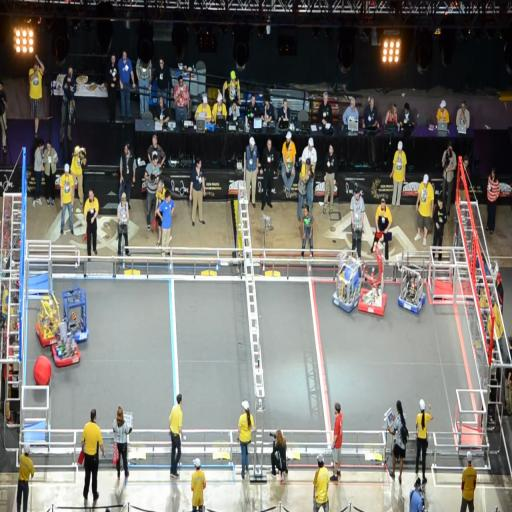robot: (358, 241, 388, 317), (331, 250, 362, 316), (35, 288, 63, 346), (61, 287, 91, 341), (397, 263, 427, 314), (52, 317, 82, 368)
